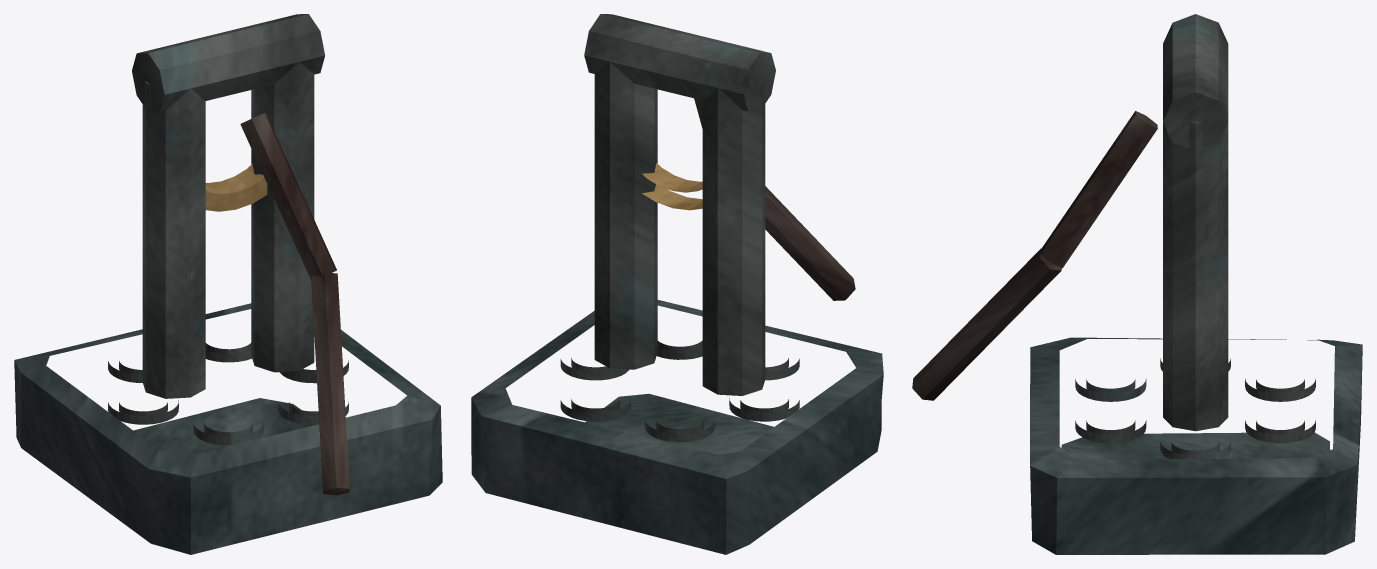
File: 0699_rope_anchor_24.glb
The picture shows the model from 3 angles, left to right: view 1: azimuth 30°, elevation 25°; view 2: azimuth 150°, elevation 25°; view 3: azimuth 270°, elevation 25°; orthographic projection.
Parts seen in each view (by area): view 1: iron, stone_dark, wood_dark, brass; view 2: iron, stone_dark, wood_dark, brass; view 3: stone_dark, iron, wood_dark.
Boxes of the visible parts, x1=… form: iron: x1=108, y1=14, x2=348, y2=445; stone_dark: x1=14, y1=303, x2=442, y2=554; wood_dark: x1=240, y1=112, x2=349, y2=495; brass: x1=205, y1=164, x2=267, y2=211; iron: x1=560, y1=14, x2=799, y2=442; stone_dark: x1=471, y1=300, x2=883, y2=554; wood_dark: x1=694, y1=98, x2=855, y2=300; brass: x1=642, y1=163, x2=702, y2=210; stone_dark: x1=1030, y1=337, x2=1362, y2=554; iron: x1=1075, y1=14, x2=1315, y2=458; wood_dark: x1=912, y1=111, x2=1157, y2=400.
Size of the model in its own units: 1.22 by 1.78 by 1.66.
4 materials, 4 textured.
